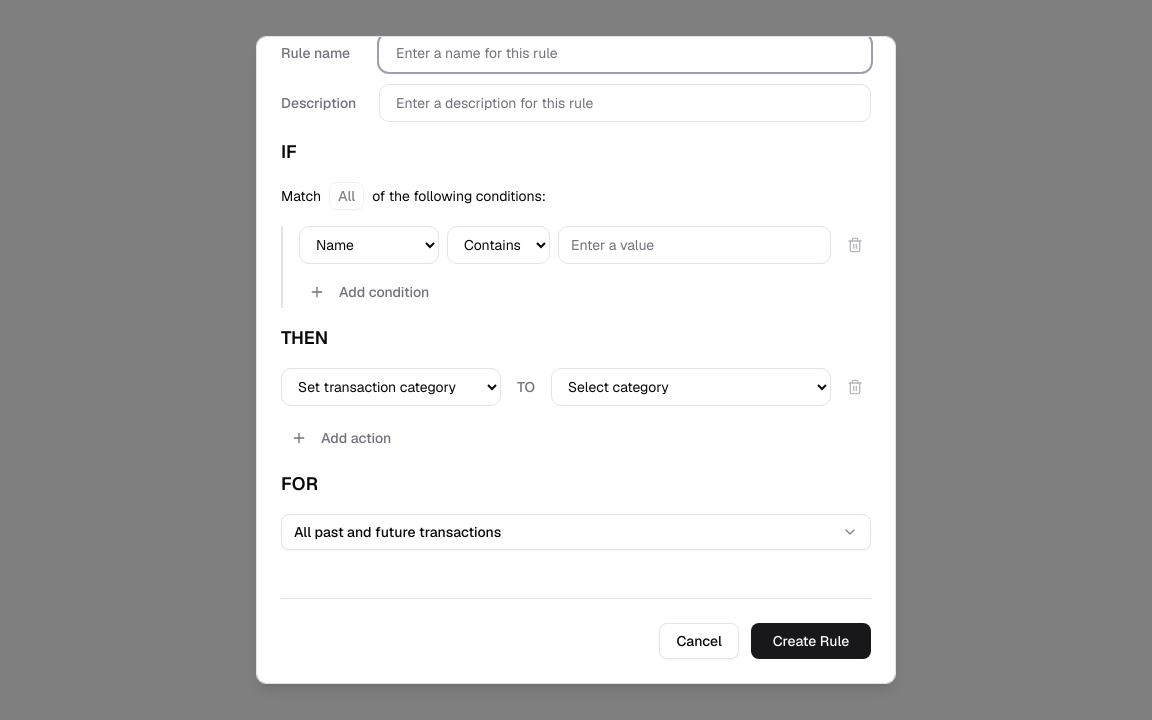
RuleModal › requires a rule name
(page scrolled)
Click the button "Create Rule". click: (811, 641)
box: left=751, top=623, right=871, bottom=659
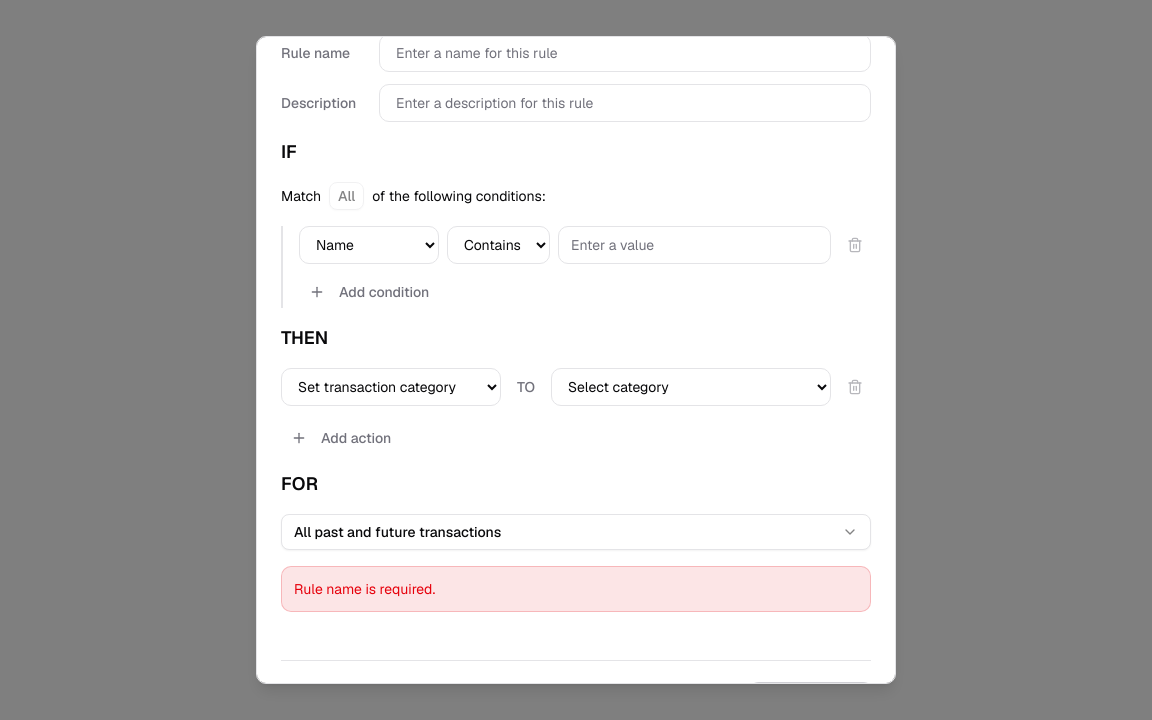
Result: the text "Rule name is required." is shown at left=281, top=566, right=871, bottom=612
